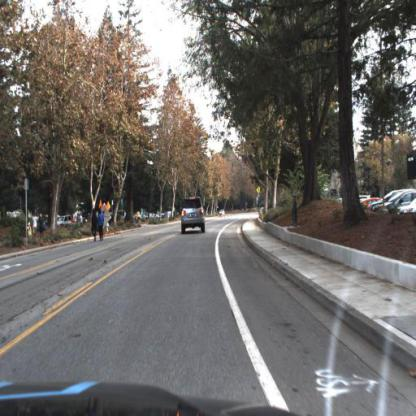car: (182, 199, 206, 234), (55, 216, 75, 231)
pedestrian: (91, 208, 99, 241), (99, 208, 106, 239), (72, 214, 84, 227), (33, 213, 39, 238), (39, 214, 45, 237)
